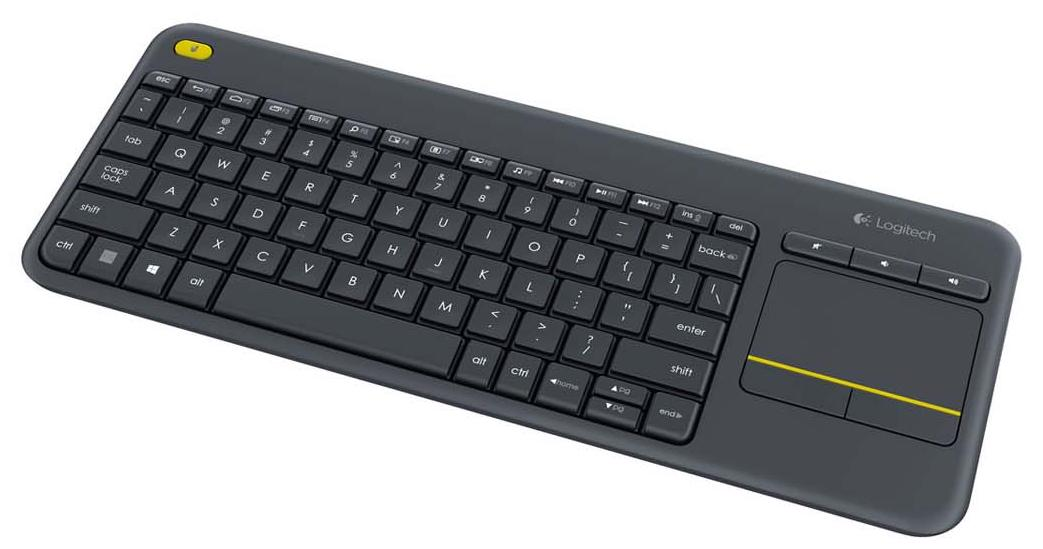logitech-keyboard-k400: (22, 24, 1024, 540)
